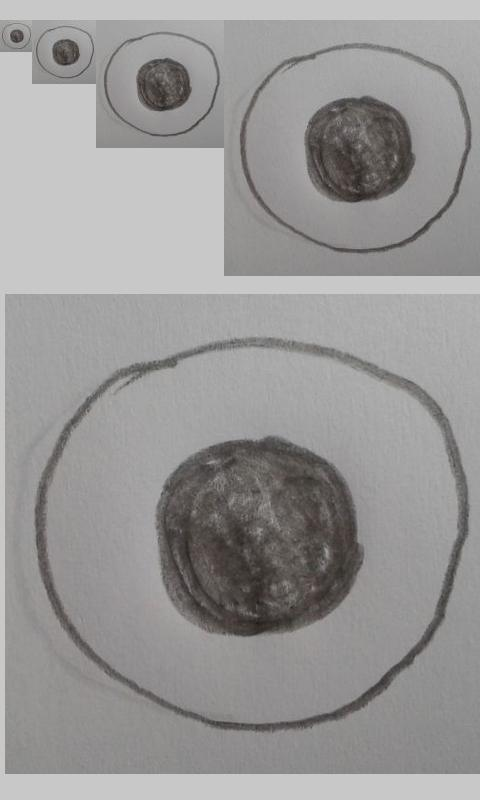radio_button: (32, 333, 469, 735), (237, 40, 472, 255), (103, 31, 222, 138), (35, 24, 95, 80), (1, 22, 32, 50)
